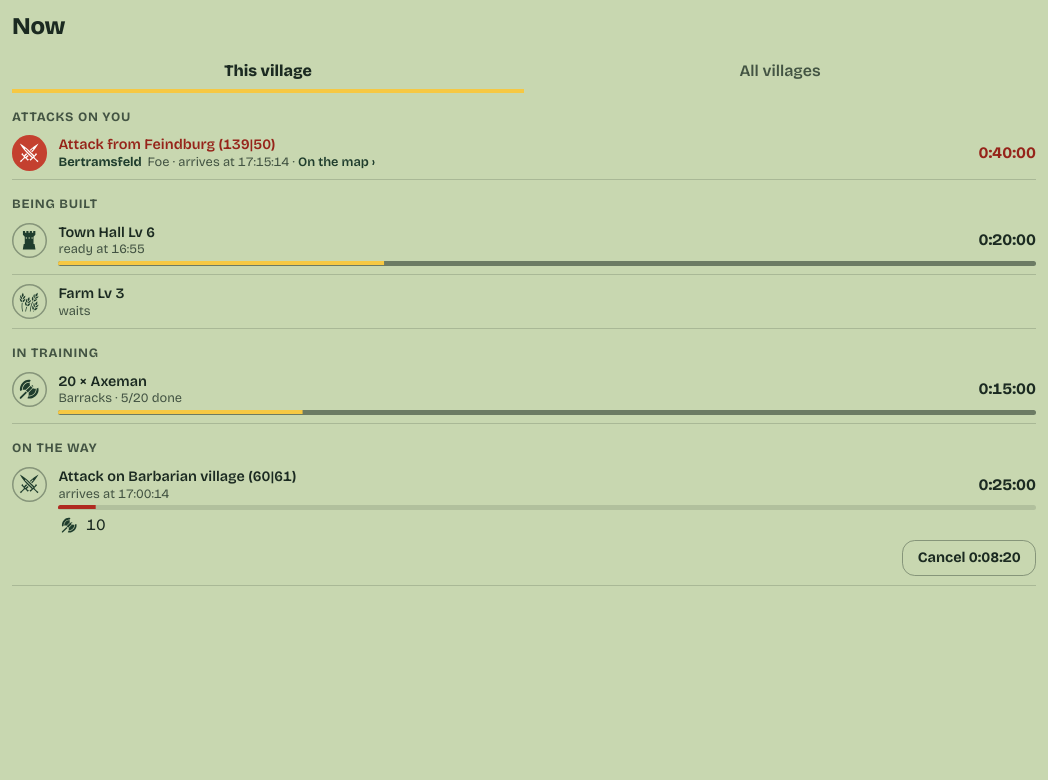
Scenario: NowList › switches to all villages and tags each line with its village
This screenshot has width=1048, height=780.
What coordinates should you click on to do the following:
click the button "All villages"
I would click on:
 (780, 71)
Its box is [524,49,1036,93].
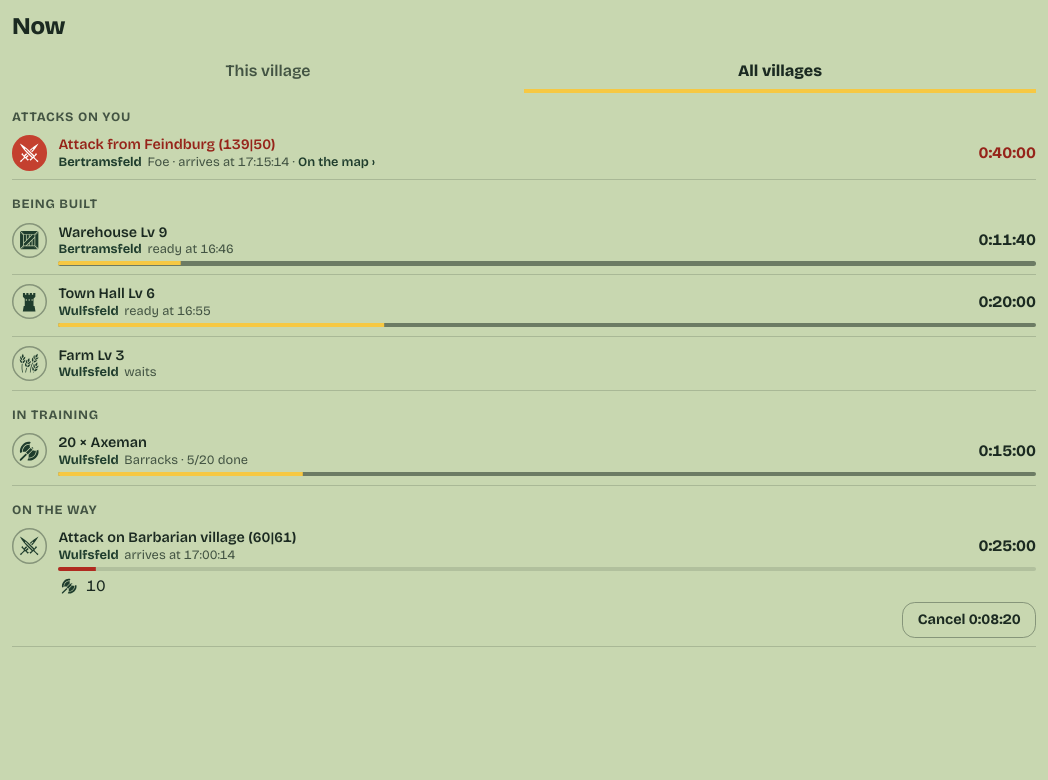
Result: the text "Warehouse Lv 9" is shown at [58,224,167,241]
Result: the text "Bertramsfeld" is shown once at [58,241,142,256]
